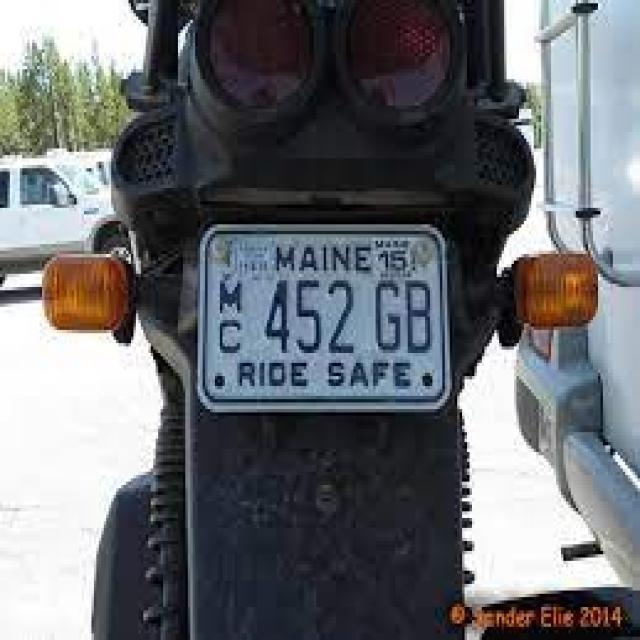number plate: (193, 218, 452, 412)
